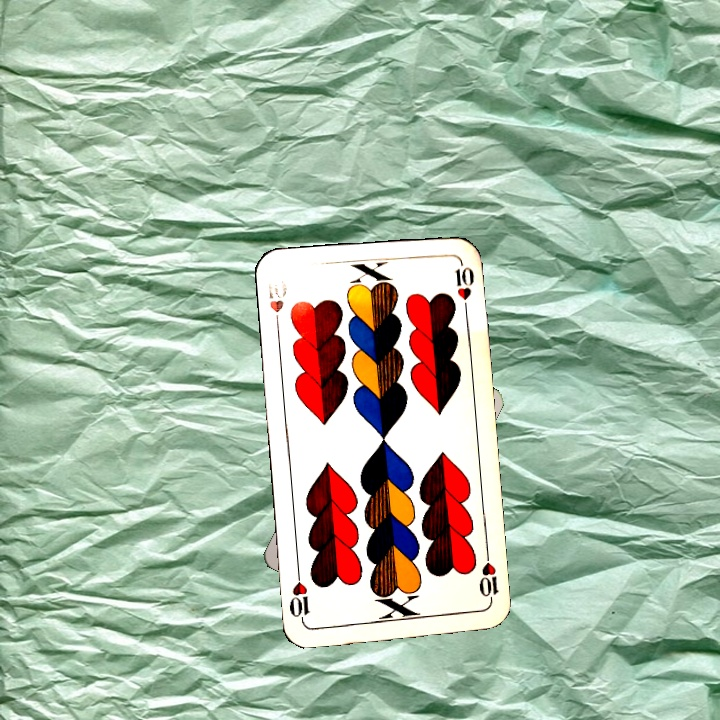H10: (474, 547, 501, 607), (264, 279, 290, 333)
